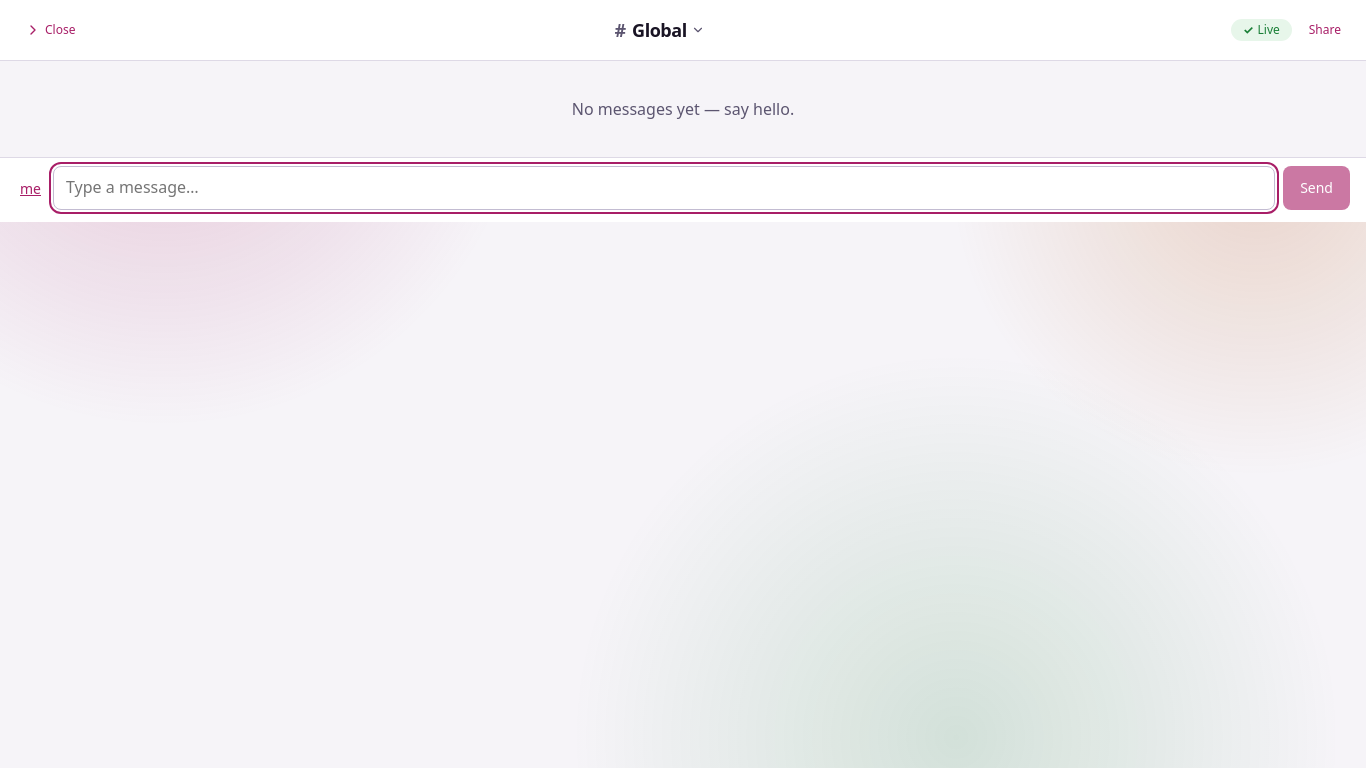
Test: ChatScreen › CHAT-022: the room rail › closes the room list once a room is chosen
The width and height of the screenshot is (1366, 768).
Click the button "# Global".
click(660, 30)  # box [607,8,713,52]
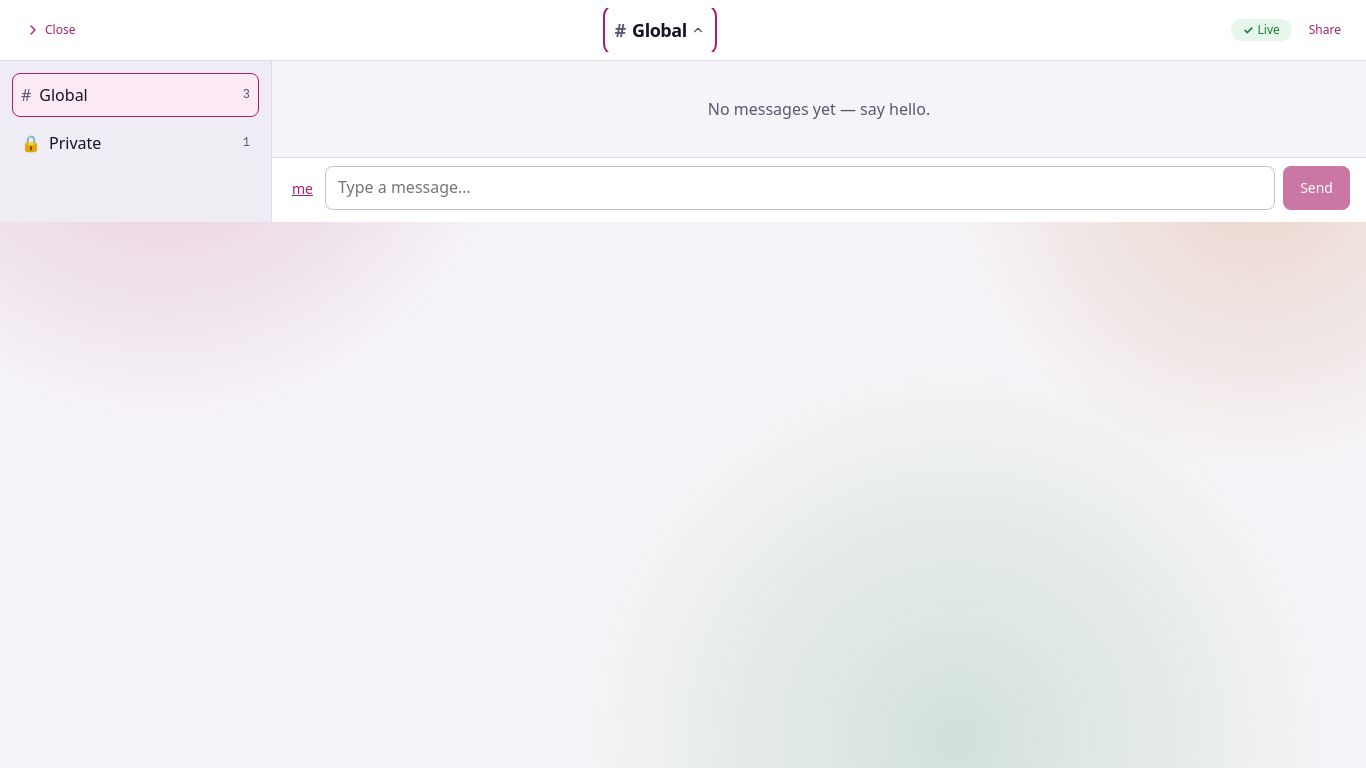
Click the text "Private".
click(75, 143)  # box [49,132,101,154]
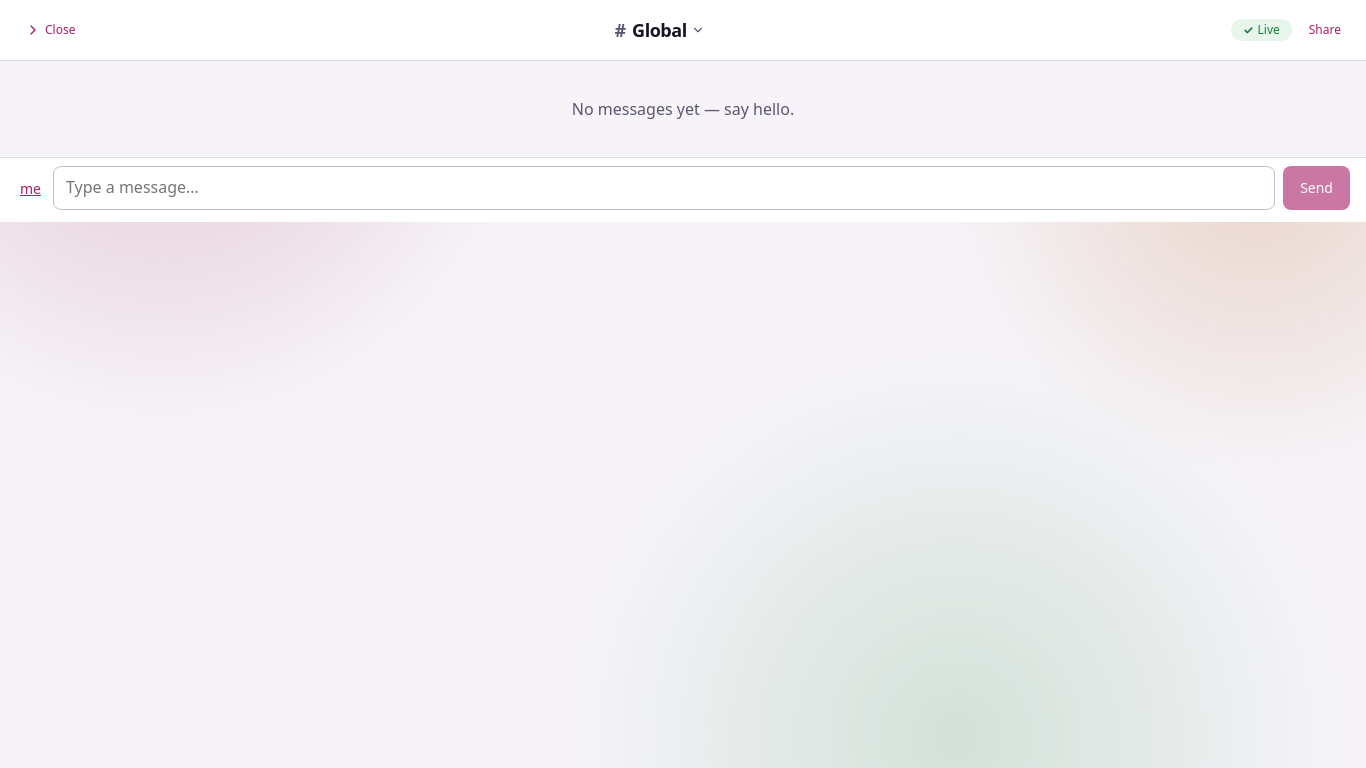
Check: the button "# Global" is collapsed, box [607,8,713,52]
